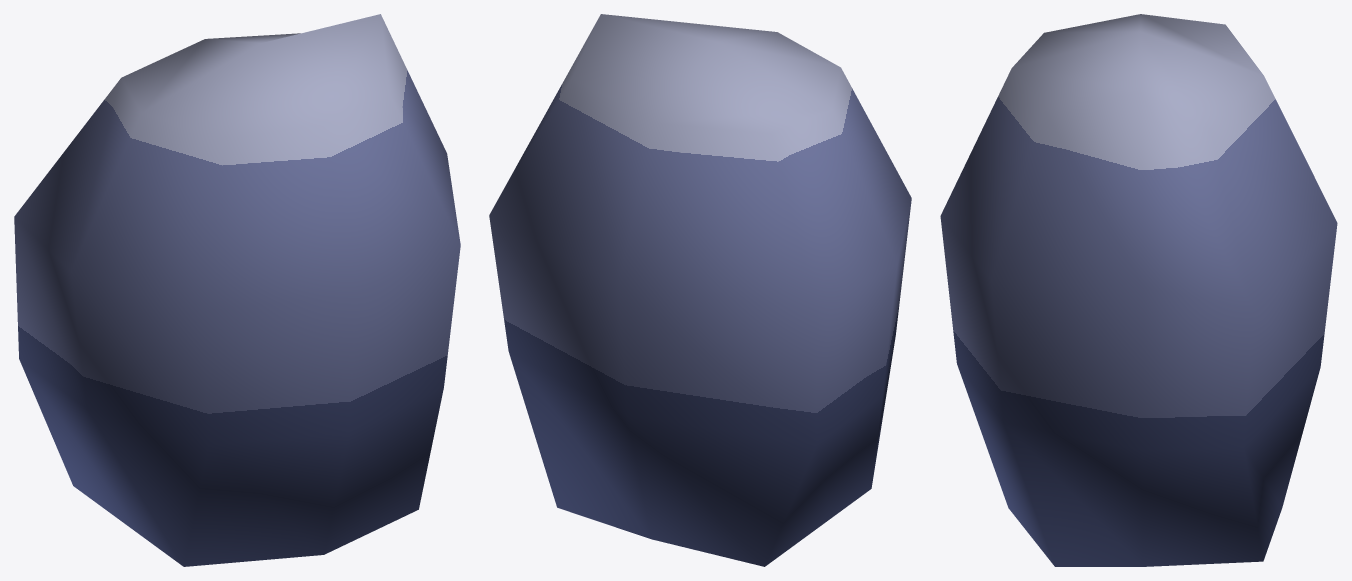
Rendered from Rock_1.fbx.
3 renders of one model, left to right at view 1: azimuth 30°, elevation 25°; view 2: azimuth 150°, elevation 25°; view 3: azimuth 270°, elevation 25°, orthographic. The views are drawn at different scales.
Visible parts, largest first — view 1: Rock01.001; view 2: Rock01.001; view 3: Rock01.001.
Boxes of the visible parts, left/top/right/bottom form: Rock01.001: left=14, top=14, right=460, bottom=566; Rock01.001: left=489, top=14, right=911, bottom=566; Rock01.001: left=940, top=14, right=1337, bottom=566.
Bounding box in the file's own units: 218 × 257 × 194.
1 material, 1 textured.
